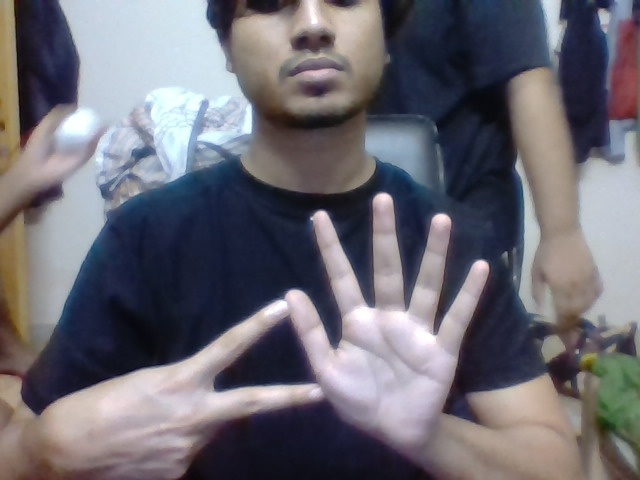N: (193, 295, 286, 425)
